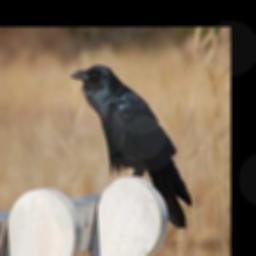Crow: (70, 64, 193, 230)
